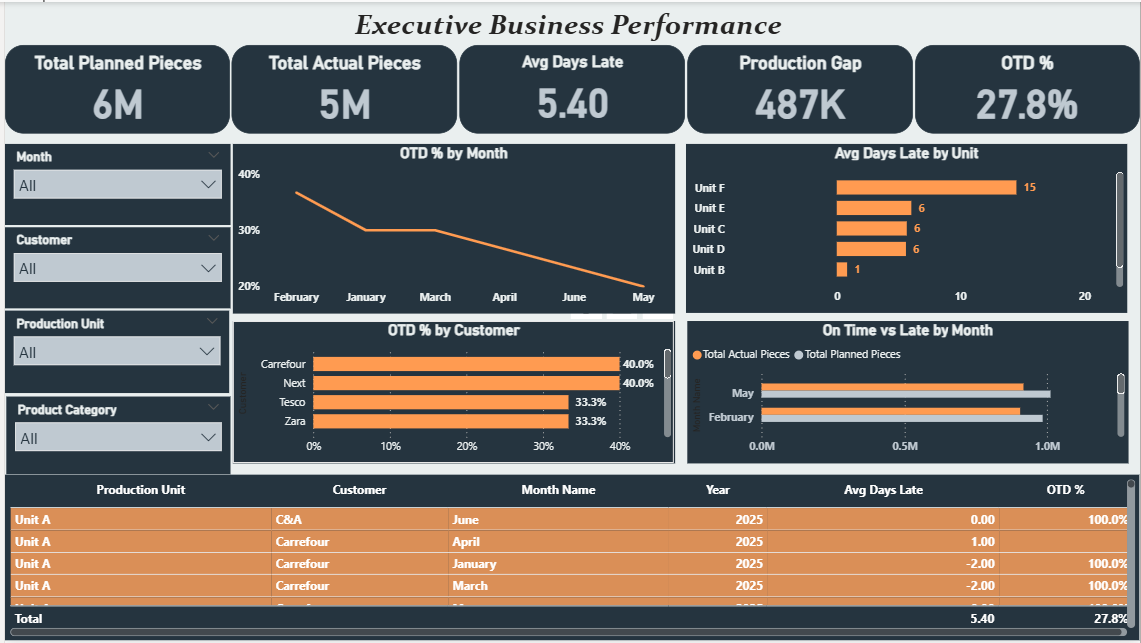

The dashboard page shown, as its layout file describes it:
{"tool":"powerbi","page":{"name":"OTD & Delivery Analysis","canvas":[1280,720],"ordinal":4},"visuals":[{"type":"textbox","box":[248.7,0,781.3,51.7],"z":0},{"type":"card","title":"Total Planned Pieces","fields":{"Values":["Measurs.Total Planned Pieces"]},"box":[0,48,253.7,99.7],"z":1000},{"type":"card","title":"Total Actual Pieces","fields":{"Values":["Measurs.Total Actual Pieces"]},"box":[256,47.9,254,100],"z":2000},{"type":"card","title":"Avg Days Late","fields":{"Values":["Measurs.Avg Days Late"]},"box":[512.4,47.9,254,100],"z":3000},{"type":"card","title":"Production Gap","fields":{"Values":["Measurs.Production Gap"]},"box":[768.7,47.9,254,100],"z":4000},{"type":"card","title":"OTD %","fields":{"Values":["Measurs.OTD %"]},"box":[1025.1,47.9,254,100],"z":5000},{"type":"slicer","fields":{"Values":["Production_Data.Month Name"]},"box":[0,159.7,254,91.1],"z":6000},{"type":"slicer","fields":{"Values":["Production_Data.Customer"]},"box":[0,254,254,91.1],"z":7000},{"type":"slicer","fields":{"Values":["Production_Data.Production Unit"]},"box":[0,348.2,252.4,92.7],"z":8000},{"type":"clusteredBarChart","title":"Avg Days Late by Unit","fields":{"Y":["Measurs.Avg Days Late"],"Category":["Production_Data.Production Unit"]},"box":[768.1,160.3,498.7,190.8],"z":9000},{"type":"barChart","title":"OTD % by Customer","fields":{"Category":["Production_Data.Customer"],"Y":["Measurs.OTD %"]},"box":[256.2,359.6,498.6,160.5],"z":10000},{"type":"clusteredBarChart","title":"On Time vs Late by Month","fields":{"Category":["Production_Data.Month Name"],"Y":["Measurs.Total Actual Pieces","Measurs.Total Planned Pieces"]},"box":[768.7,359.6,498.6,160.5],"z":11000},{"type":"lineChart","title":"OTD % by Month","fields":{"Y":["Measurs.OTD %"],"Category":["Production_Data.Month Name"]},"box":[256.2,160.5,498.6,191.4],"z":13000},{"type":"slicer","fields":{"Values":["Production_Data.Product Category"]},"box":[1.6,444.1,252.4,87.9],"z":14000},{"type":"tableEx","title":"Customer Performance Matrix","fields":{"Values":["Production_Data.Production Unit","Production_Data.Customer","Production_Data.Month Name","Production_Data.Customer_FOB_Date.Variation.Date Hierarchy.Year","Measurs.Avg Days Late","Measurs.OTD %"]},"box":[0,532.5,1279.6,186.8],"z":14001}]}

Visuals, with their boxes in screenshot pixels (x1, y1, x2, y2), scaled from the page's 1280x720 canvas onto the 1141x643 screenshot:
textbox: [222,0,918,46]
"Total Planned Pieces" card: [0,43,226,132]
"Total Actual Pieces" card: [228,43,455,132]
"Avg Days Late" card: [457,43,683,132]
"Production Gap" card: [685,43,912,132]
"OTD %" card: [914,43,1140,132]
slicer - Production_Data.Month Name: [0,143,226,224]
slicer - Production_Data.Customer: [0,227,226,308]
slicer - Production_Data.Production Unit: [0,311,225,394]
"Avg Days Late by Unit" clusteredBarChart: [685,143,1129,314]
"OTD % by Customer" barChart: [228,321,673,464]
"On Time vs Late by Month" clusteredBarChart: [685,321,1130,464]
"OTD % by Month" lineChart: [228,143,673,314]
slicer - Production_Data.Product Category: [1,397,226,475]
"Customer Performance Matrix" tableEx: [0,476,1140,642]
